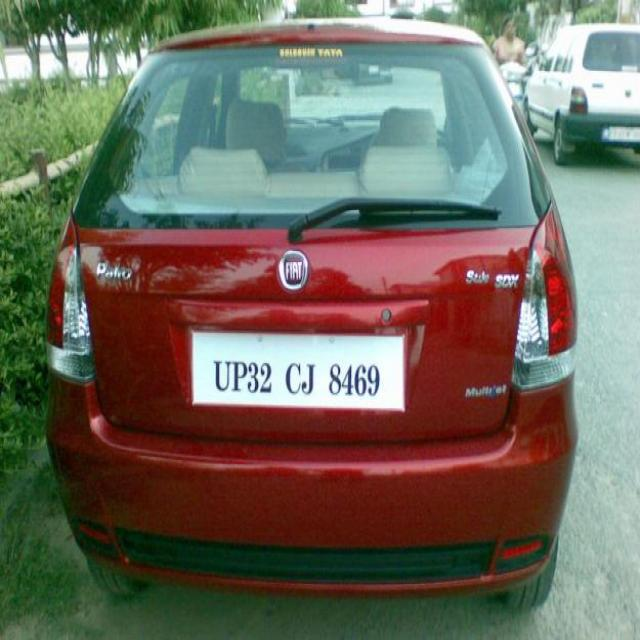Number-Plate: (195, 336, 404, 406)
